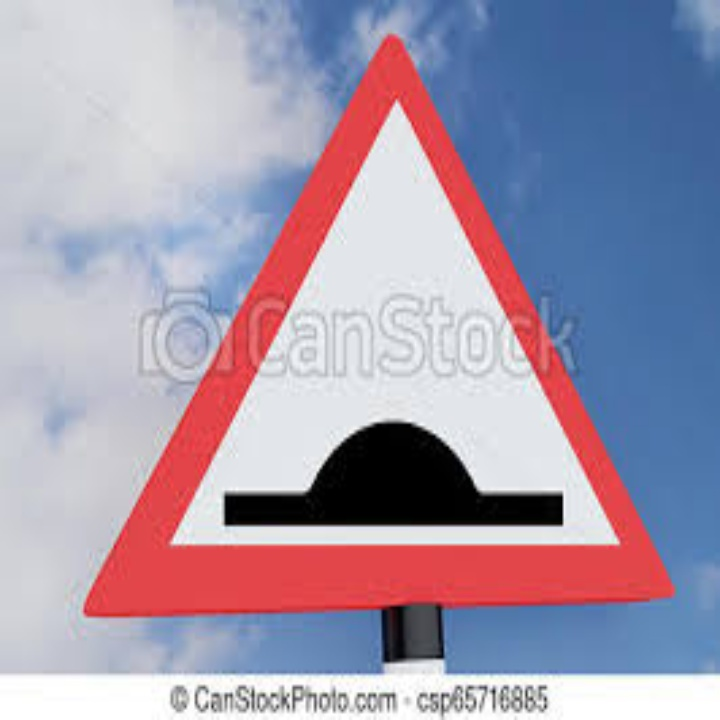bump: (209, 405, 599, 565)
